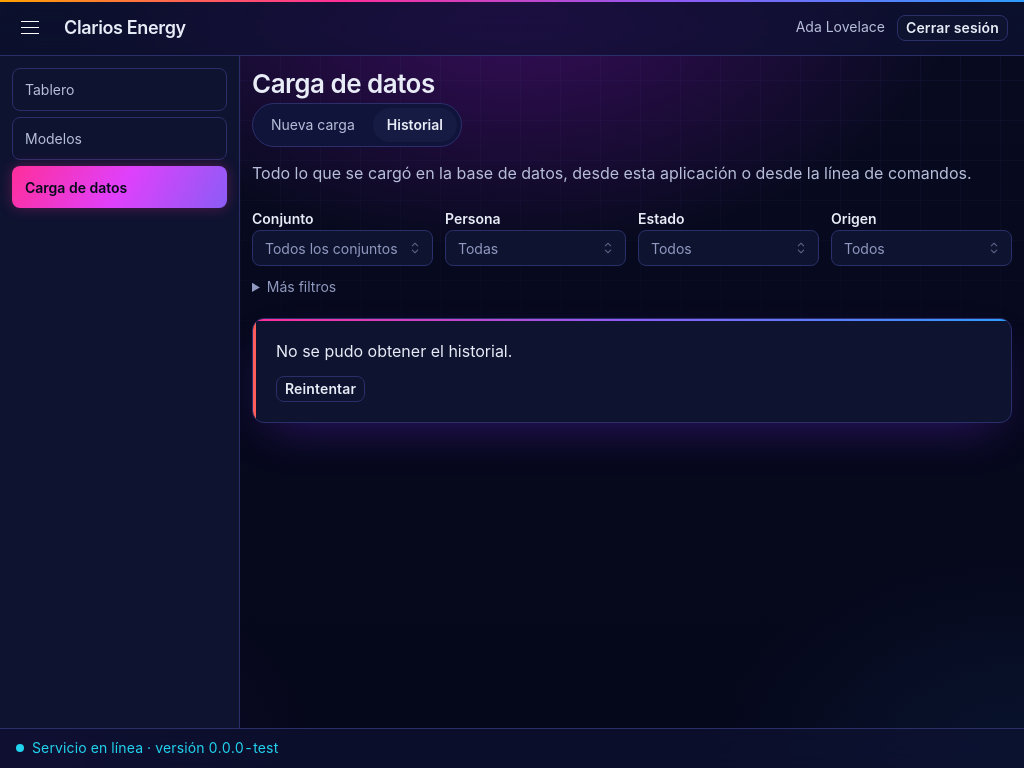
the history › offers a retry when the history cannot be read
The image size is (1024, 768).
Check: the text "No se pudo obtener el historial." is shown, box [276,339,512,364]
Click the button "Reintentar" at (321, 389), box [276,376,365,402]
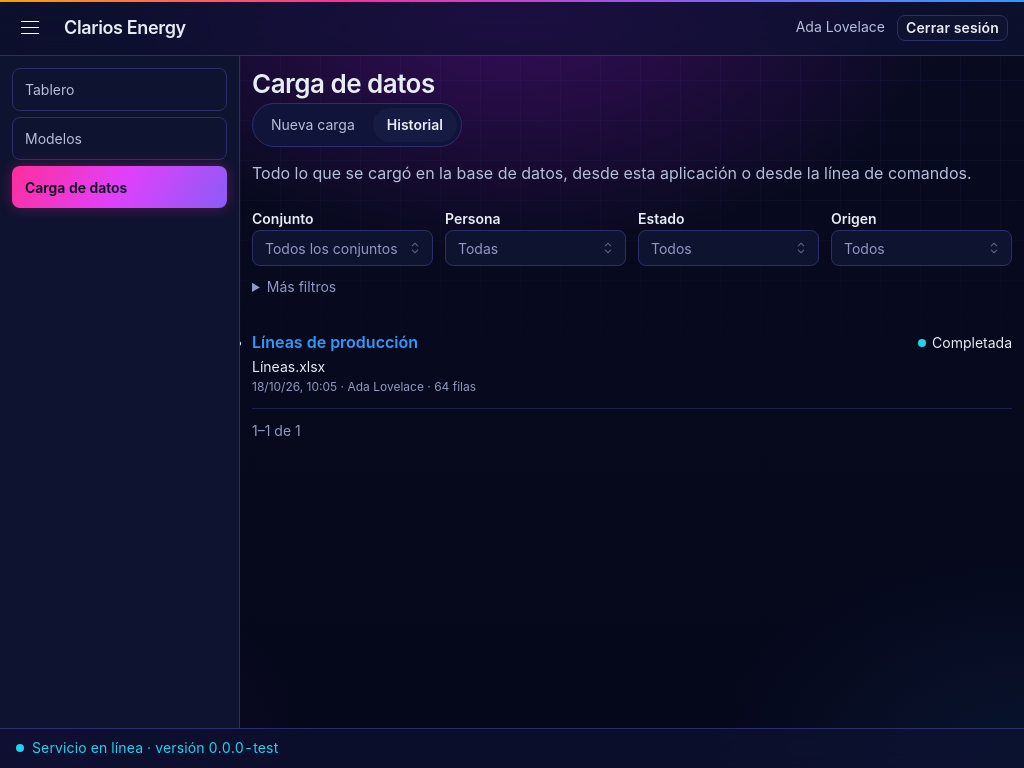
Check: the list named "Historial" is shown, box [252,318,1012,409]
